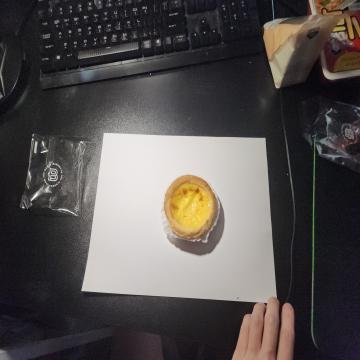EggTart: (163, 174, 217, 238)
